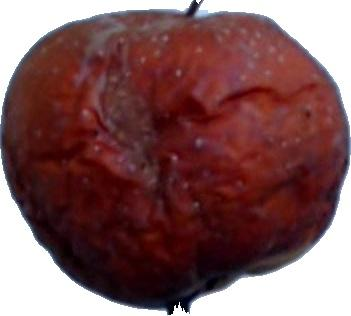Apple Overripe: (0, 0, 351, 311)
